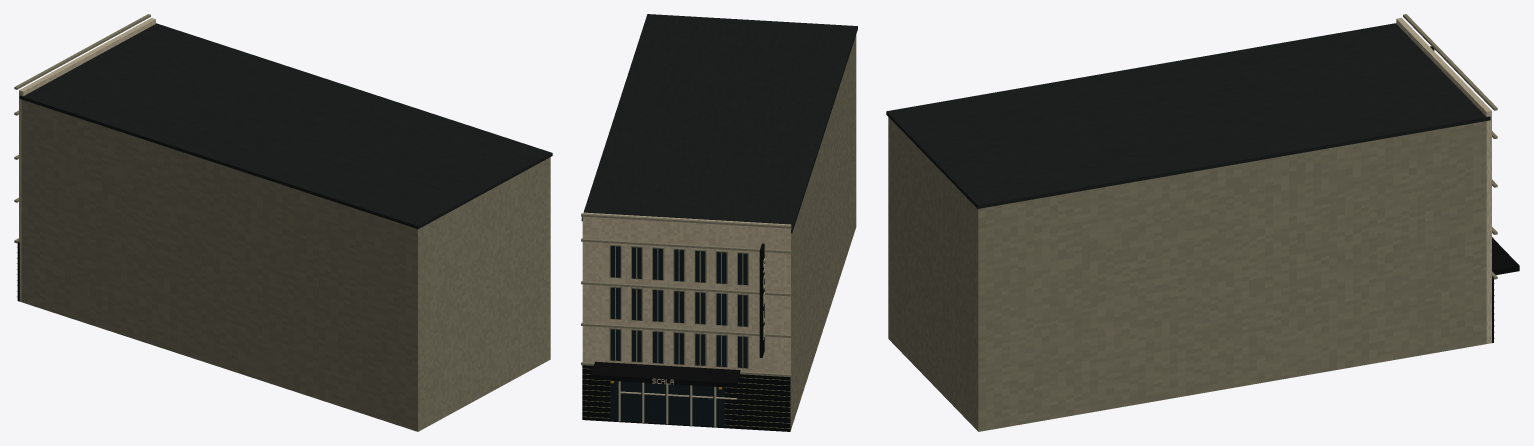
The picture shows the model from 3 angles, left to right: view 1: azimuth 30°, elevation 25°; view 2: azimuth 150°, elevation 25°; view 3: azimuth 270°, elevation 25°; orthographic projection. The views are drawn at different scales.
Parts seen in each view (by area): view 1: scala-kruiskade-2, scala-kruiskade-5, scala-kruiskade-0; view 2: scala-kruiskade-5, scala-kruiskade-0, scala-kruiskade-2, scala-kruiskade-3, scala-kruiskade-1; view 3: scala-kruiskade-2, scala-kruiskade-5, scala-kruiskade-0, scala-kruiskade-1.
Boxes of the visible parts, box(x1,y1,x2,y2) form: scala-kruiskade-2: box(14, 14, 550, 431); scala-kruiskade-5: box(19, 23, 552, 229); scala-kruiskade-0: box(19, 18, 155, 301); scala-kruiskade-5: box(581, 14, 857, 233); scala-kruiskade-0: box(582, 212, 791, 430); scala-kruiskade-2: box(581, 35, 856, 429); scala-kruiskade-3: box(610, 246, 747, 426); scala-kruiskade-1: box(582, 243, 790, 431); scala-kruiskade-2: box(888, 14, 1497, 431); scala-kruiskade-5: box(886, 23, 1490, 208); scala-kruiskade-0: box(1396, 17, 1493, 343); scala-kruiskade-1: box(1430, 46, 1519, 342).
Size of the model in its own units: 29.26 by 17.38 by 42.52.
Materials: 6 (6 with a texture image).
